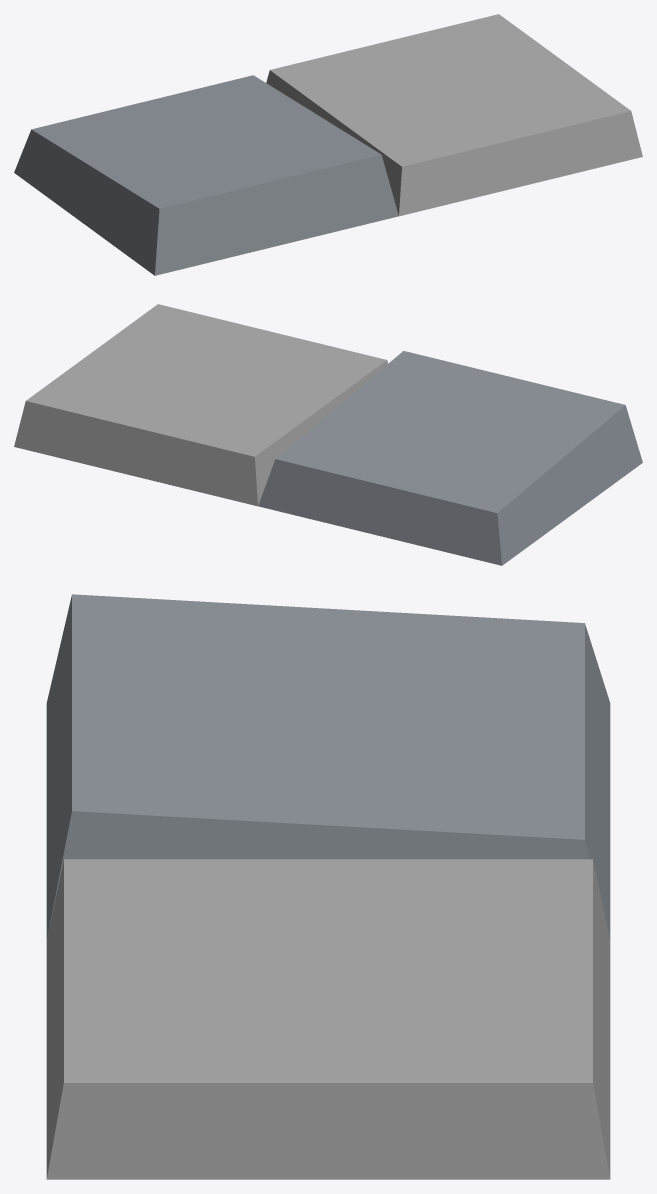
File: Rock_Tiles_m_07.fbx
3 renders of one model, top to bottom at view 1: azimuth 30°, elevation 25°; view 2: azimuth 150°, elevation 25°; view 3: azimuth 270°, elevation 25°, orthographic. The views are drawn at different scales.
Visible parts, largest first — view 1: Rock_Tiles_m_07; view 2: Rock_Tiles_m_07; view 3: Rock_Tiles_m_07.
Boxes of the visible parts, left/top/right/bottom form: Rock_Tiles_m_07: left=14, top=14, right=642, bottom=275; Rock_Tiles_m_07: left=14, top=304, right=642, bottom=565; Rock_Tiles_m_07: left=46, top=594, right=610, bottom=1179.
Size of the model in its own units: 80 by 9.37 by 40.
